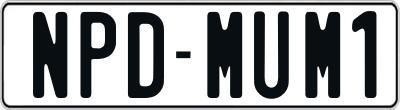1: (349, 11, 379, 101)
D: (128, 10, 167, 98)
M: (206, 11, 245, 97), (304, 9, 343, 95)
N: (32, 10, 69, 99)
P: (81, 10, 120, 96)
U: (251, 10, 287, 99)
